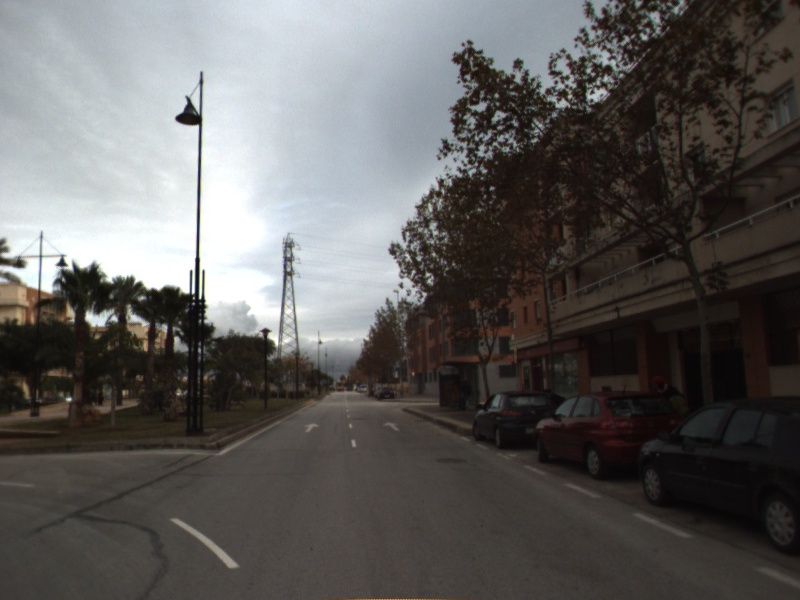STRAIGHT: (381, 420, 402, 433), (302, 421, 322, 434)
